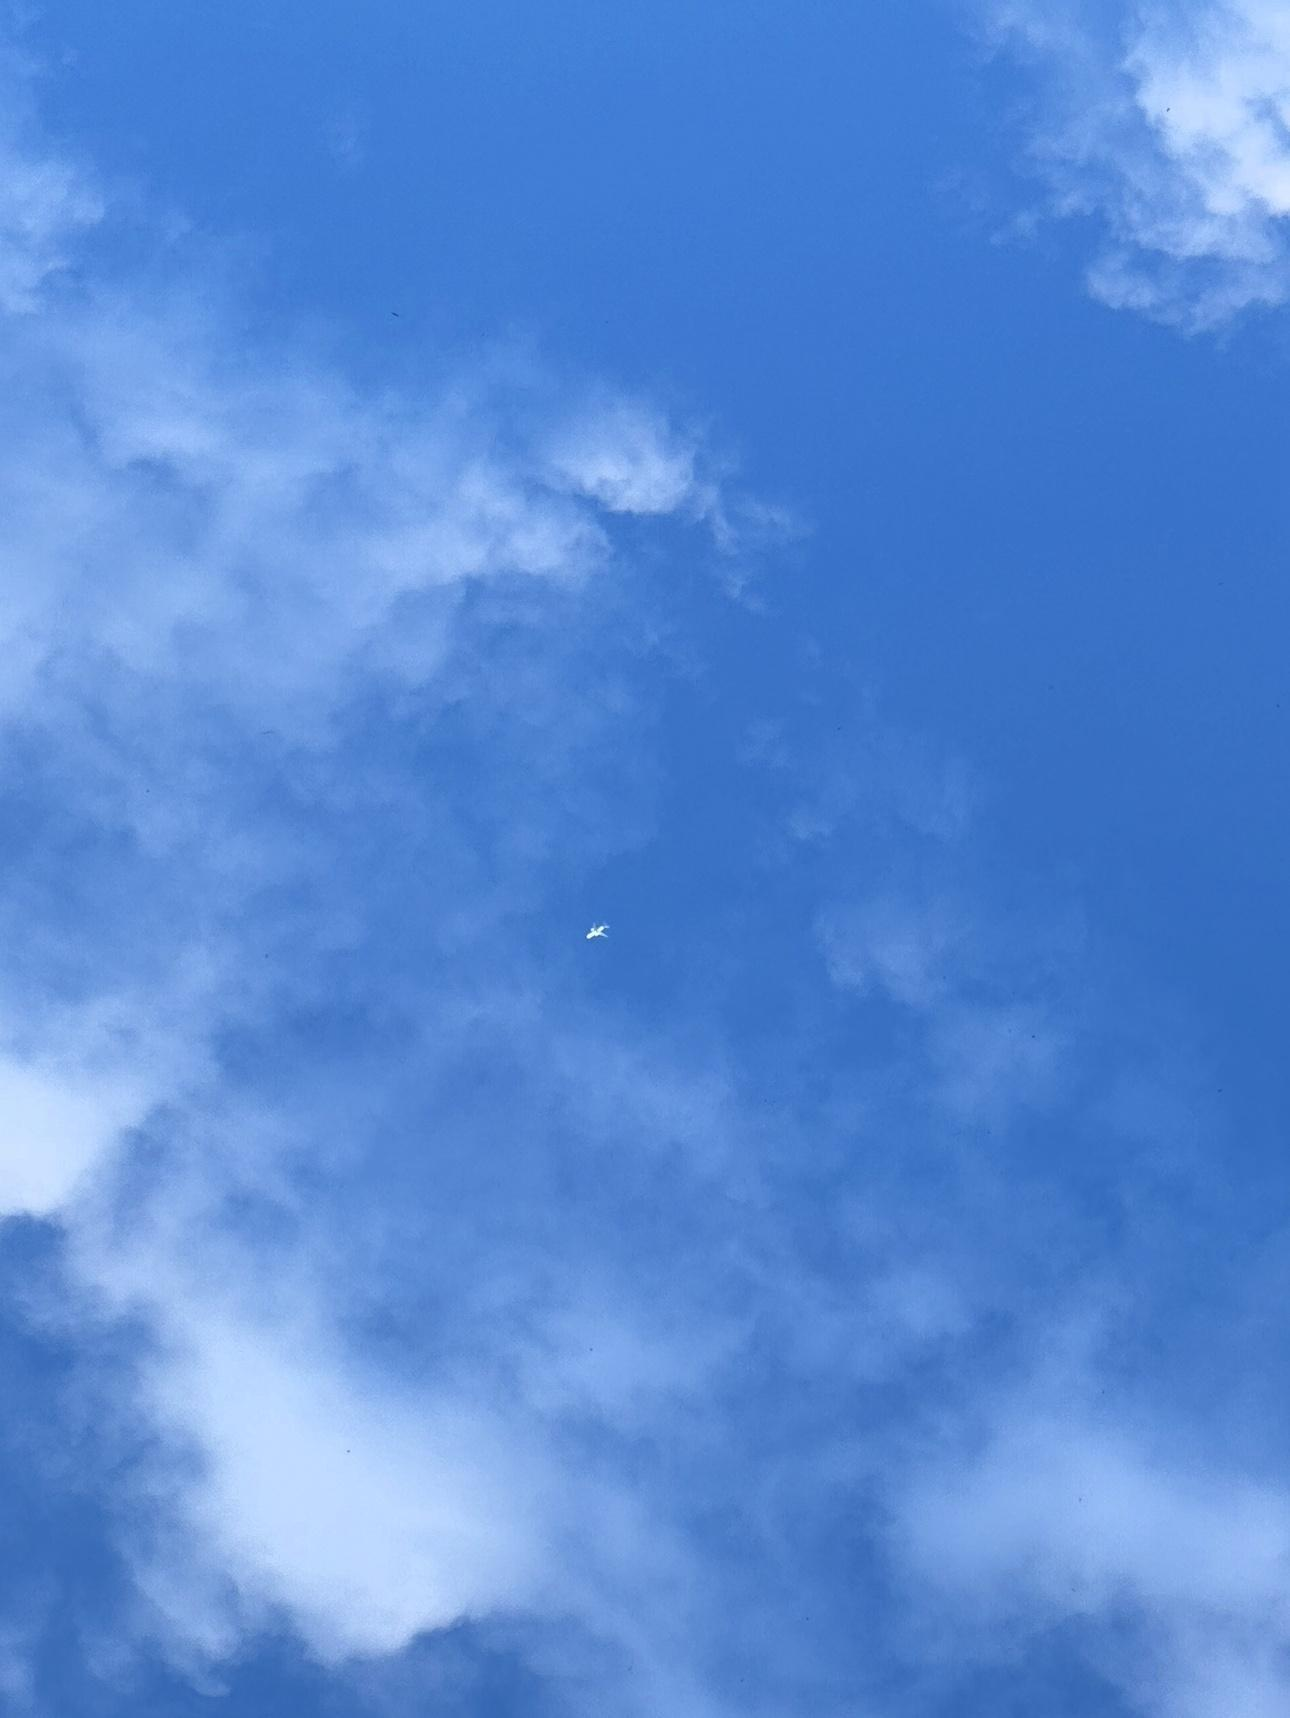Plane: (573, 906, 622, 967)
